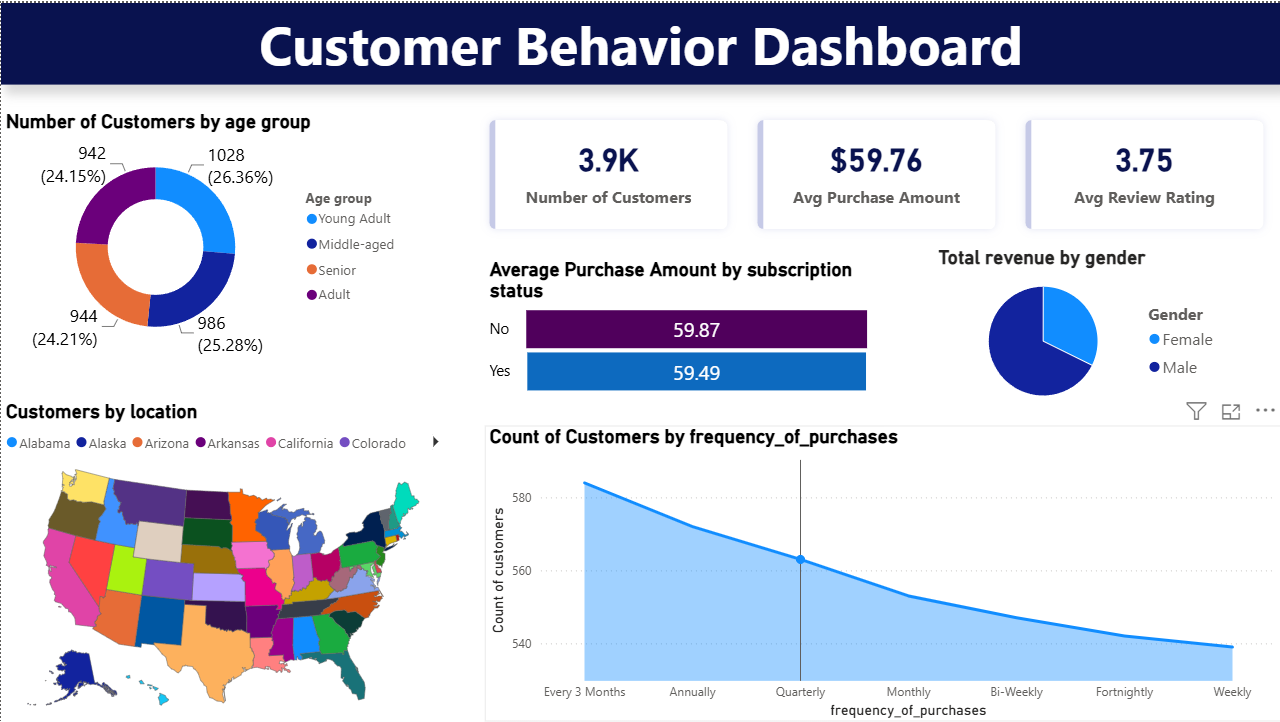

The dashboard page shown, as its layout file describes it:
{"tool":"powerbi","page":{"name":"Page 2","canvas":[1280,720],"ordinal":0},"visuals":[{"type":"cardVisual","fields":{"Data":["public customer.Number of Customers","public customer.Average Purchase Amount","public customer.Average Review Rating"]},"box":[472,101.5,808.3,141.8],"z":0},{"type":"textbox","box":[0,0,1280.3,81.9],"z":1},{"type":"pieChart","title":"Total revenue by gender","fields":{"Category":["public customer.gender"],"Y":["public customer.Average Purchase Amount","Sum(public customer.purchase_amount)"]},"box":[933,243.3,294.7,167.5],"z":2},{"type":"funnel","title":"Average Purchase Amount by subscription status","fields":{"Category":["public customer.subscription_status"],"Y":["public customer.Average Purchase Amount"]},"box":[484.2,255.6,392.5,141.8],"z":3},{"type":"stackedAreaChart","title":"Count of Customers by frequency_of_purchases","fields":{"Y":["CountNonNull(public customer.customer_id)"],"Category":["public customer.frequency_of_purchases"]},"box":[484.2,421.9,796.1,298.4],"z":4},{"type":"shapeMap","title":"Customers by location","fields":{"Category":["public customer.location"],"Series":["public customer.location"]},"box":[0,397.4,445.1,322.8],"z":5},{"type":"donutChart","title":"Number of Customers by age group","fields":{"Category":["public customer.age_group"],"Y":["public customer.Number of Customers"]},"box":[0,107.6,408.4,251.9],"z":6}]}

Visuals, with their boxes in screenshot pixels (x1, y1, x2, y2), scaled from the page's 1280x720 canvas onto the 1280x722 screenshot:
cardVisual - public customer.Number of Customers x public customer.Average Purchase Amount: [472, 102, 1279, 244]
textbox: [0, 0, 1279, 82]
"Total revenue by gender" pieChart: [933, 244, 1228, 412]
"Average Purchase Amount by subscription status" funnel: [484, 256, 877, 399]
"Count of Customers by frequency_of_purchases" stackedAreaChart: [484, 423, 1279, 721]
"Customers by location" shapeMap: [0, 399, 445, 721]
"Number of Customers by age group" donutChart: [0, 108, 408, 360]
